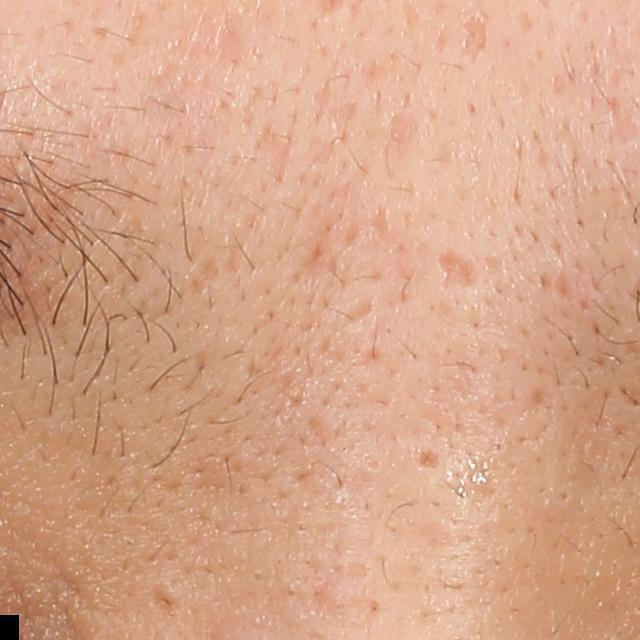atrophic_scar: (432, 248, 488, 296), (461, 5, 493, 61), (338, 300, 383, 324), (152, 581, 180, 616), (371, 203, 393, 246), (417, 448, 446, 470)
